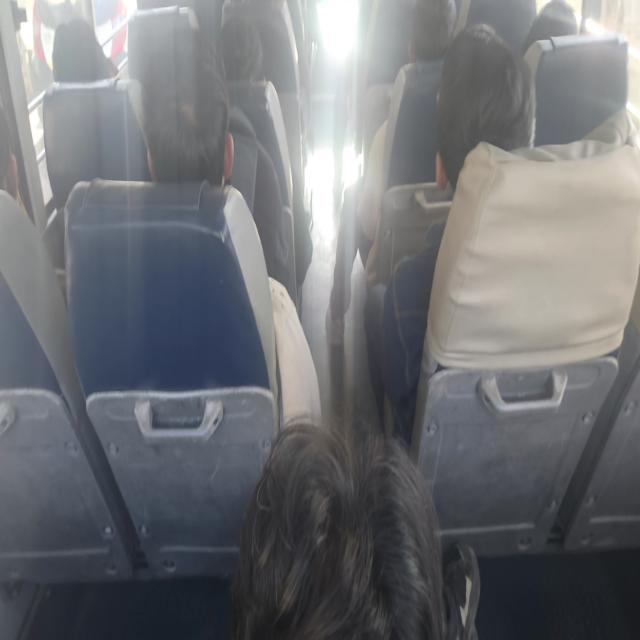person: (128, 15, 322, 427), (363, 22, 536, 440), (325, 0, 457, 434), (232, 417, 480, 638), (355, 0, 456, 269), (128, 21, 234, 185), (51, 17, 118, 82), (218, 15, 265, 82)
